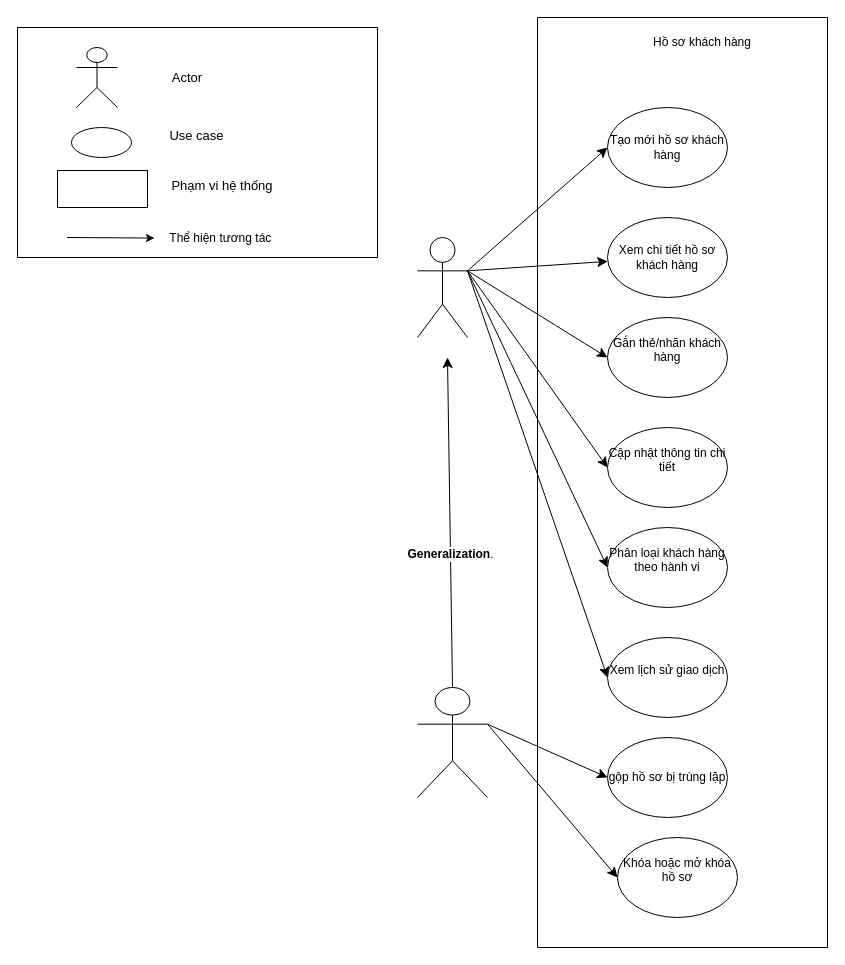
The diagram is 845 pixels wide and 965 high, and some of its shapes have lost their labels. Here are the shapes that lost their labels. From the top down, the box of each, then its label:
(416, 236, 468, 338): Nhân viên kinh doanh
(416, 686, 488, 798): Quản trị viên
